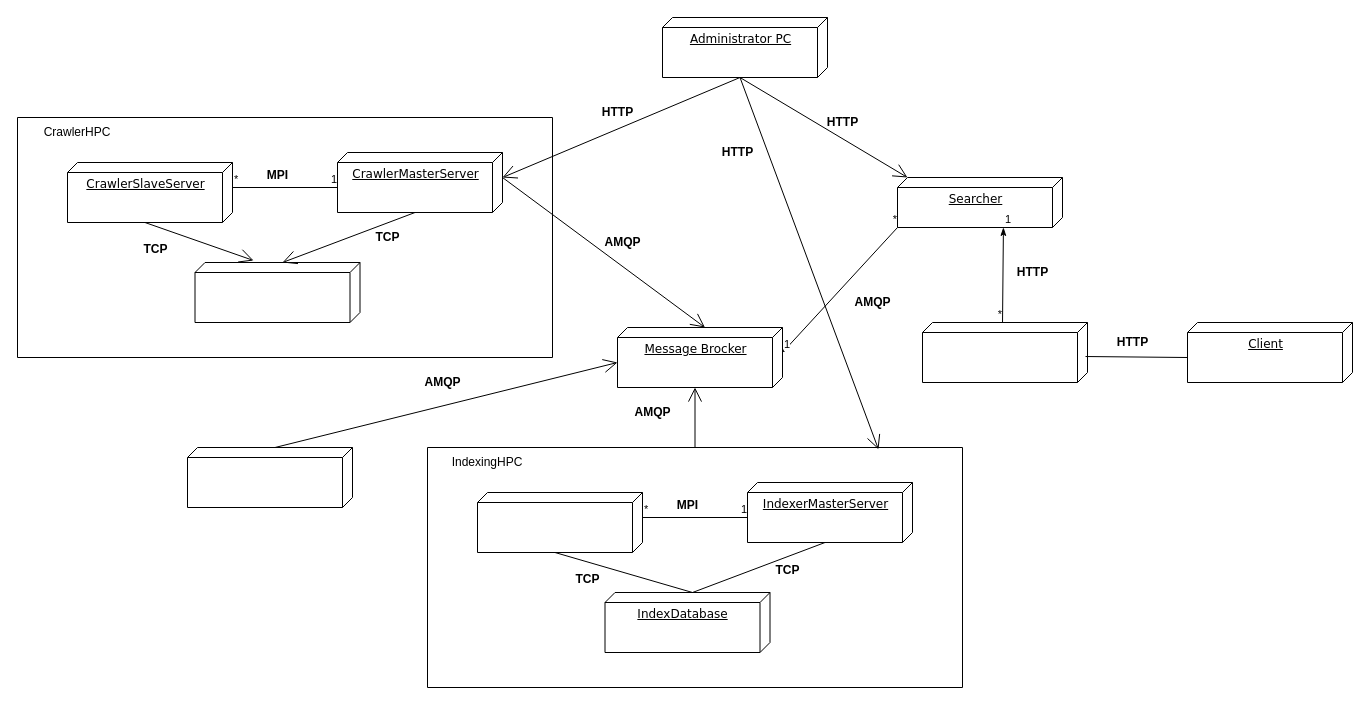
This 1370x705 diagram has some shape labels left out. Here are the shapes that lost their labels. From the top down, the centre of each, then its label:
the point at 277,292: CrawlerDatabase
the point at 1005,352: WebServer
the point at 269,477: LogsDatabase
the point at 559,522: Indexer SlaveServer
